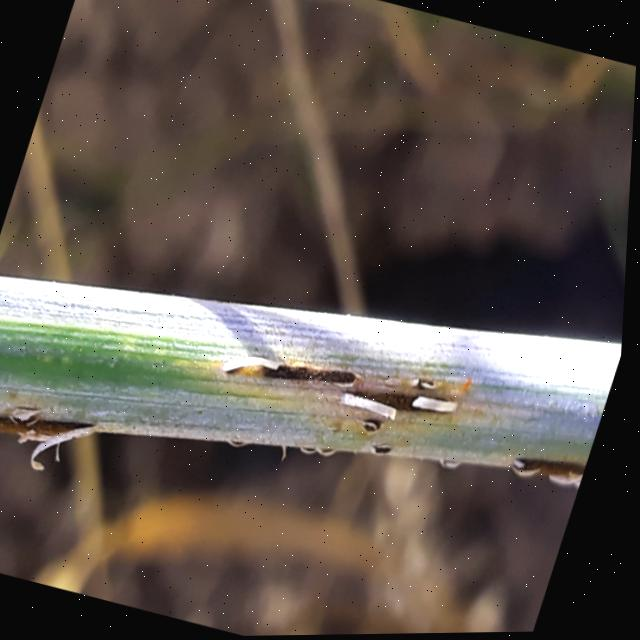black_stem_rust: (0, 162, 633, 619)
